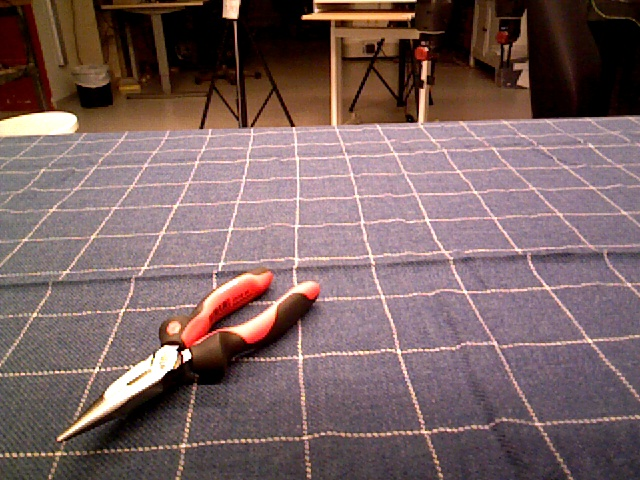plier1: (53, 268, 322, 444)
